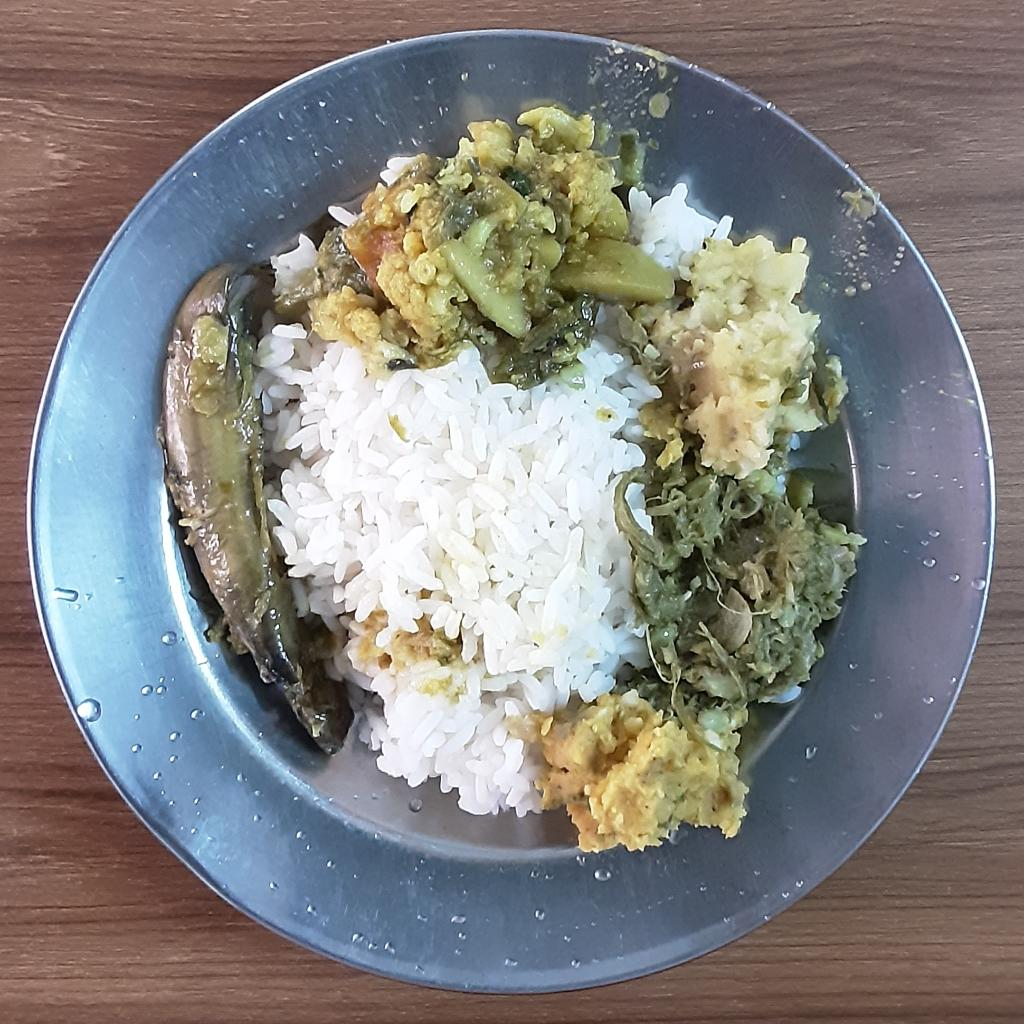fish: (153, 262, 358, 749)
khichuri: (274, 109, 665, 383)
potato-mashed: (643, 233, 850, 481)
rice: (249, 298, 663, 824), (627, 172, 732, 275)
shim: (619, 399, 864, 721)
vorta: (545, 682, 743, 854)
